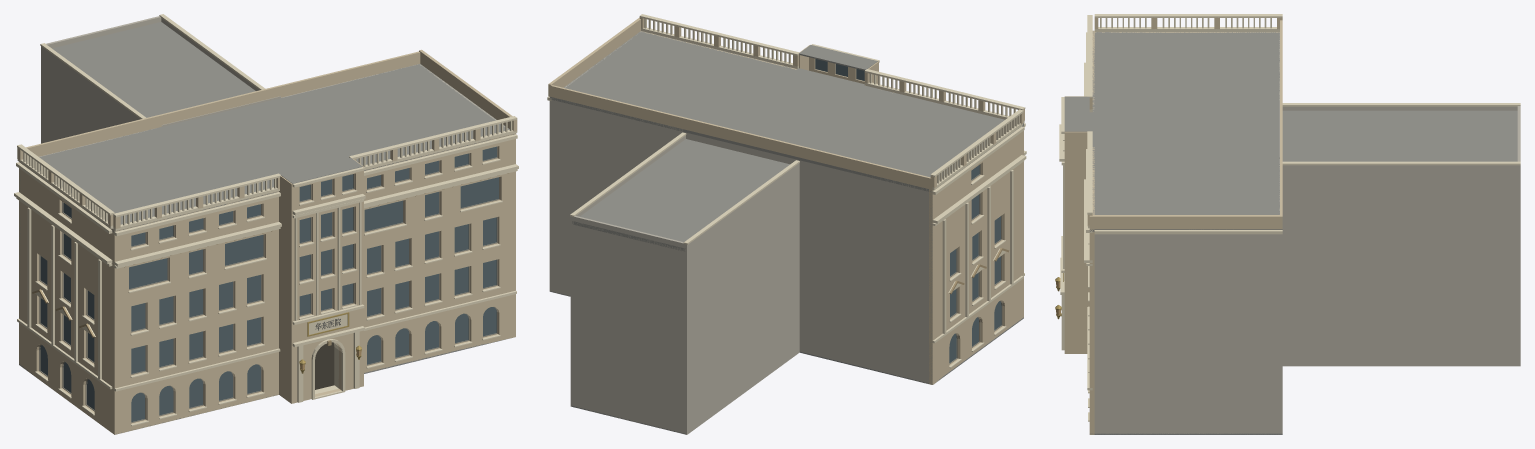
The model's file is jingan-country-hospital-north-block-lod.glb.
The picture shows the model from 3 angles, left to right: view 1: azimuth 30°, elevation 25°; view 2: azimuth 150°, elevation 25°; view 3: azimuth 270°, elevation 25°; orthographic projection. The views are drawn at different scales.
Parts seen in each view (by area): view 1: 宏恩医院历史主楼北翼与中部门诊连接体; view 2: 宏恩医院历史主楼北翼与中部门诊连接体; view 3: 宏恩医院历史主楼北翼与中部门诊连接体.
Boxes of the visible parts, x1,y1,x2,y2 form: 宏恩医院历史主楼北翼与中部门诊连接体: (14,14,518,434); 宏恩医院历史主楼北翼与中部门诊连接体: (547,14,1026,434); 宏恩医院历史主楼北翼与中部门诊连接体: (1055,14,1520,434).
Bounding box in the file's own units: 36.07 × 18.56 × 35.19.
